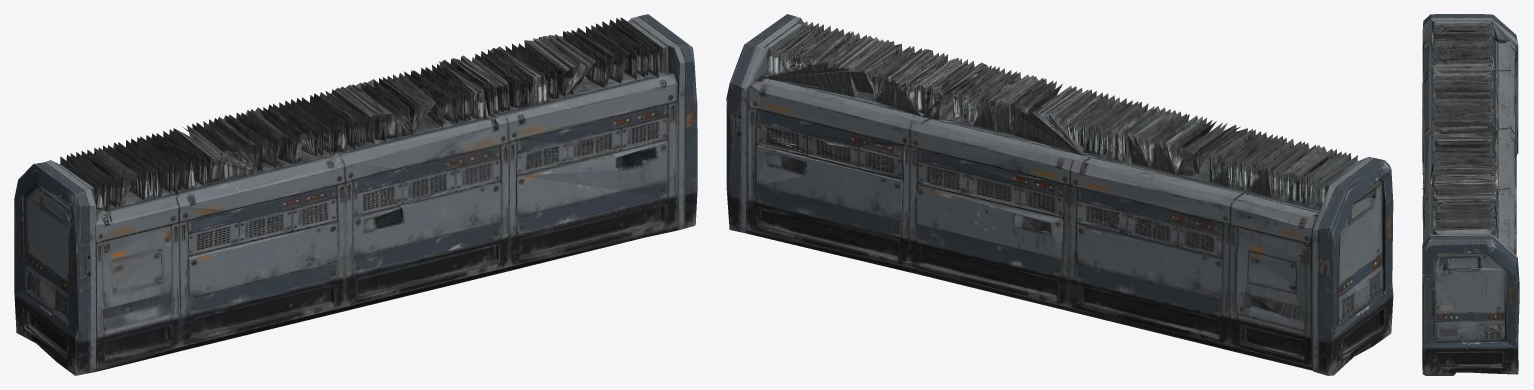
The model's file is rack.glb.
The picture shows the model from 3 angles, left to right: view 1: azimuth 30°, elevation 25°; view 2: azimuth 150°, elevation 25°; view 3: azimuth 270°, elevation 25°; orthographic projection. The views are drawn at different scales.
Visible parts, largest first — view 1: Mesh_0; view 2: Mesh_0; view 3: Mesh_0.
Part boxes in pixels (<box>): Mesh_0: <box>14,14,697,375</box>; Mesh_0: <box>726,14,1393,375</box>; Mesh_0: <box>1422,14,1519,375</box>.
Bounding box in the file's own units: 5 × 1.42 × 0.9003.
1 material, 1 textured.
